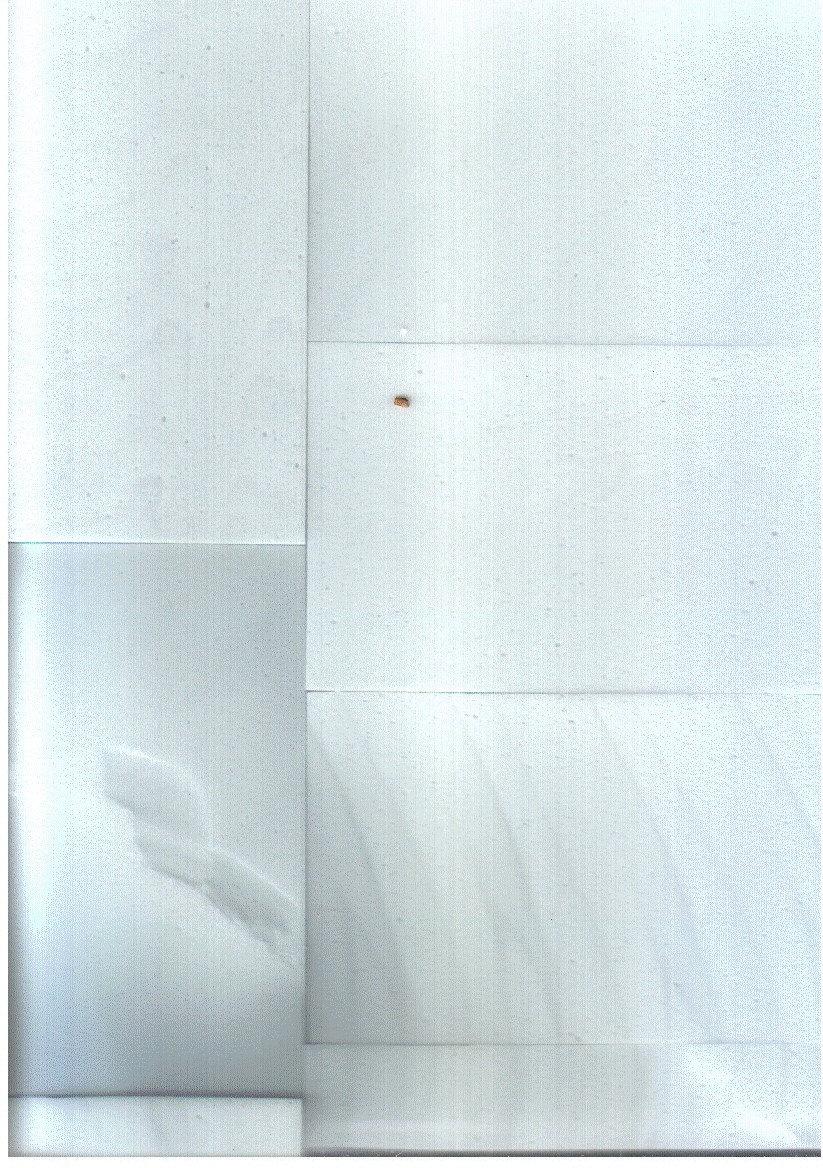grains: (380, 380, 423, 426)
